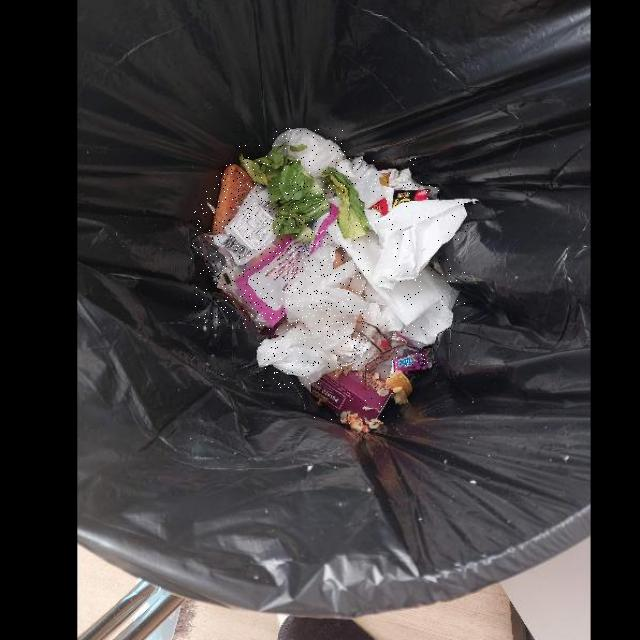biowaste: (239, 143, 330, 242), (321, 168, 373, 241), (211, 165, 256, 236)
paper: (327, 200, 469, 346), (337, 157, 439, 211), (311, 371, 392, 421)
plastic: (257, 237, 370, 388), (273, 128, 345, 180)
wrapper: (191, 185, 340, 328), (391, 332, 435, 372)
